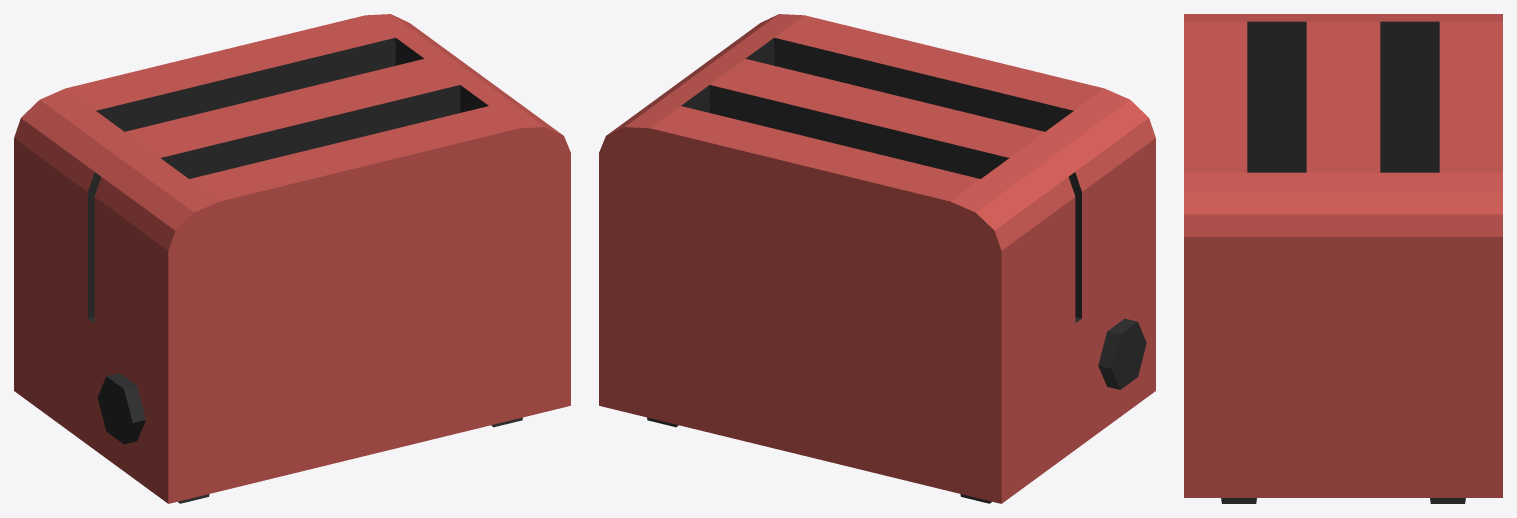
Rendered from Toaster_C2_01.fbx.
The picture shows the model from 3 angles, left to right: view 1: azimuth 30°, elevation 25°; view 2: azimuth 150°, elevation 25°; view 3: azimuth 270°, elevation 25°; orthographic projection. The views are drawn at different scales.
Parts seen in each view (by area): view 1: Toaster_C2_01; view 2: Toaster_C2_01; view 3: Toaster_C2_01.
Part boxes in pixels (box(x1,y1,x2,y2)): Toaster_C2_01: box(14, 14, 570, 503); Toaster_C2_01: box(599, 14, 1155, 503); Toaster_C2_01: box(1184, 14, 1502, 503).
Bounding box in the file's own units: 30.19 × 21.55 × 19.42.
